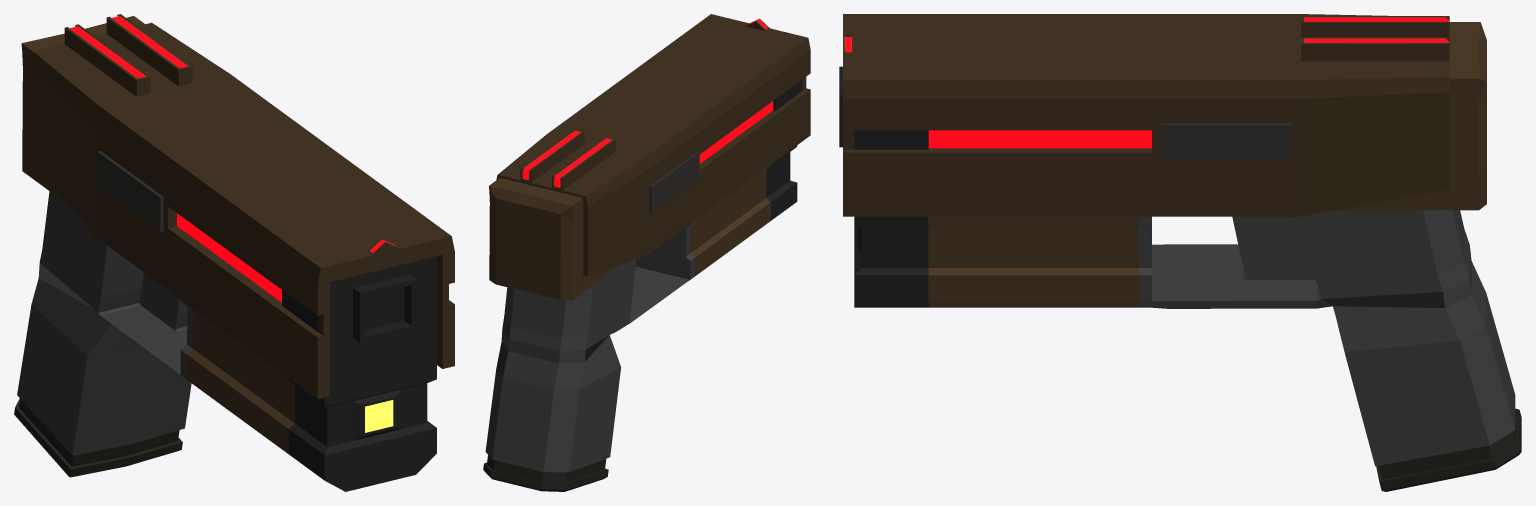
The model's file is pistol.glb.
3 views of the same model, side by side, from view 1: azimuth 30°, elevation 25°; view 2: azimuth 150°, elevation 25°; view 3: azimuth 270°, elevation 25° (orthographic). The views are drawn at different scales.
Parts seen in each view (by area): view 1: PISTOL.001; view 2: PISTOL.001; view 3: PISTOL.001.
Boxes of the visible parts, x1=… form: PISTOL.001: x1=14, y1=14, x2=454, y2=491; PISTOL.001: x1=483, y1=14, x2=810, y2=491; PISTOL.001: x1=839, y1=14, x2=1521, y2=491.
Bounding box in the file's own units: 0.046 × 0.129 × 0.1833.
Materials: 1 (1 with a texture image).
